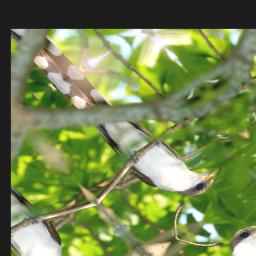Cuckoo: (50, 50, 232, 215)
